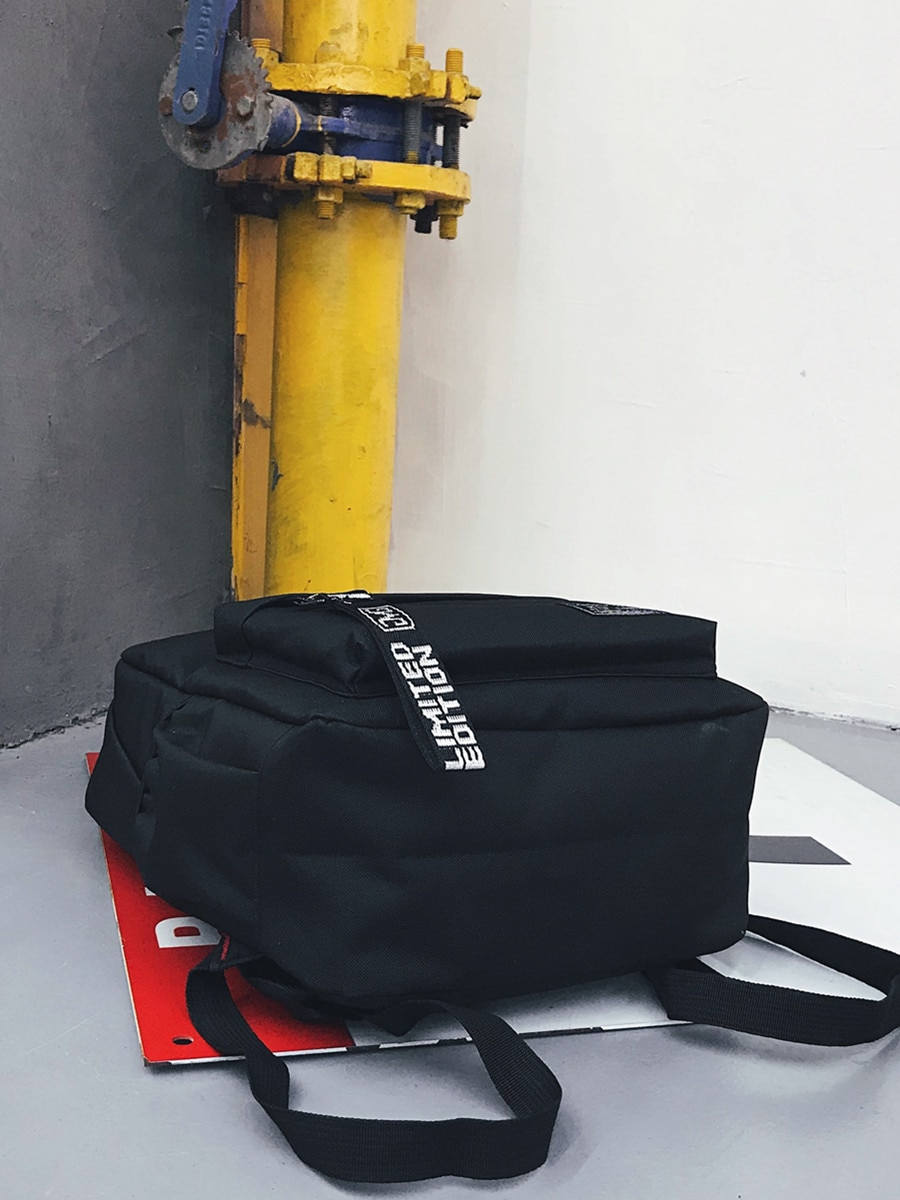Men's Backpacks: (83, 588, 900, 1187)
